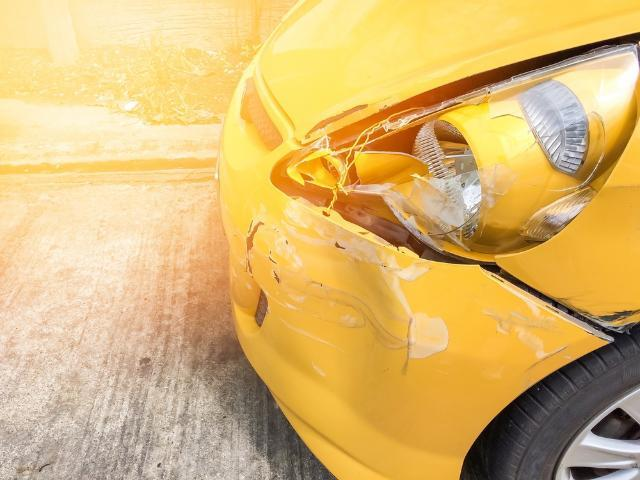dent: (276, 206, 411, 432)
dislocated part: (227, 198, 622, 480)
lamp broken: (273, 35, 640, 261)
scratch: (489, 291, 567, 367), (239, 217, 283, 295), (299, 101, 373, 142), (587, 305, 640, 327)
